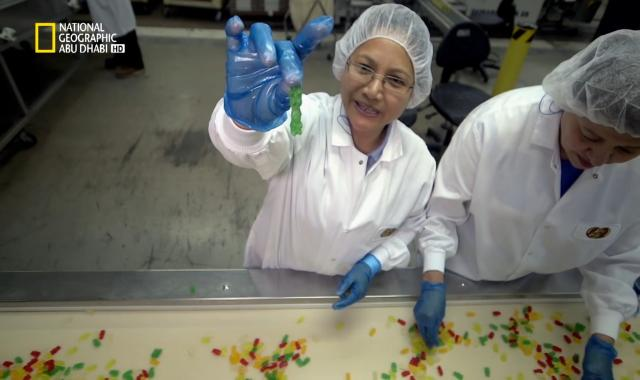hairnet: (552, 31, 640, 167), (337, 6, 431, 124)
